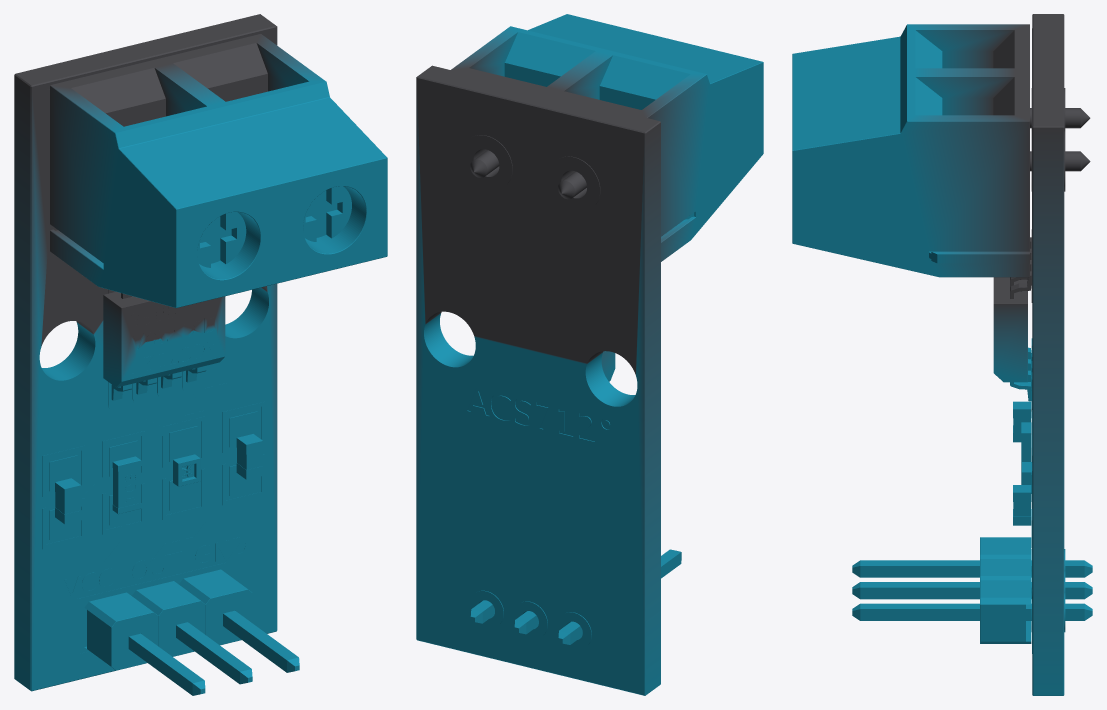
File: acs712.glb
The picture shows the model from 3 angles, left to right: view 1: azimuth 30°, elevation 25°; view 2: azimuth 150°, elevation 25°; view 3: azimuth 270°, elevation 25°; orthographic projection. The views are drawn at different scales.
Parts seen in each view (by area): view 1: acs712.glb; view 2: acs712.glb; view 3: acs712.glb.
Boxes of the visible parts, box(x1,y1,x2,y2) form: acs712.glb: box(14, 14, 387, 695); acs712.glb: box(416, 14, 763, 695); acs712.glb: box(792, 14, 1092, 695).
Bounding box in the file's own units: 0.1995 × 0.468 × 0.2236.
